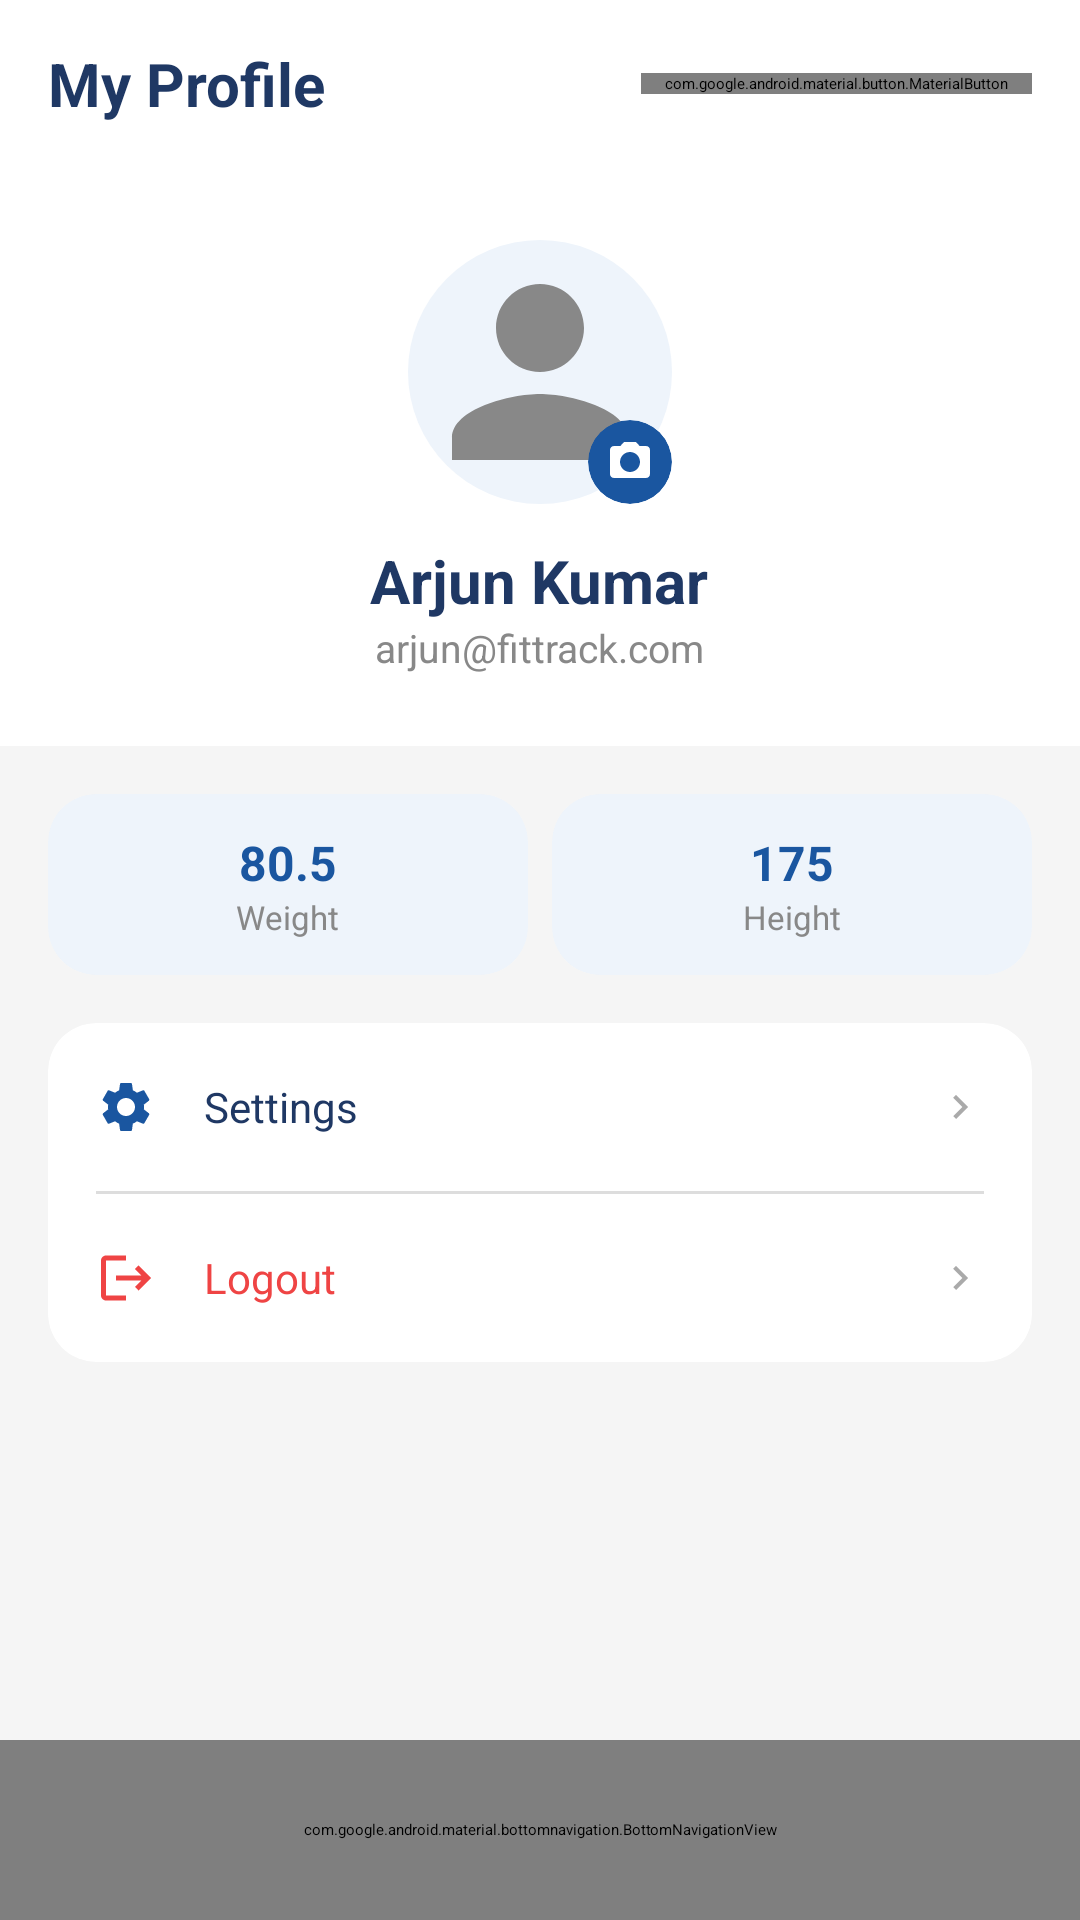

Named icons in this screenshot (1080px x 1920px) and their bounding boxes, (x1, y1, x2, y2):
chevron right: (953, 1095, 968, 1119), (953, 1266, 968, 1290)
